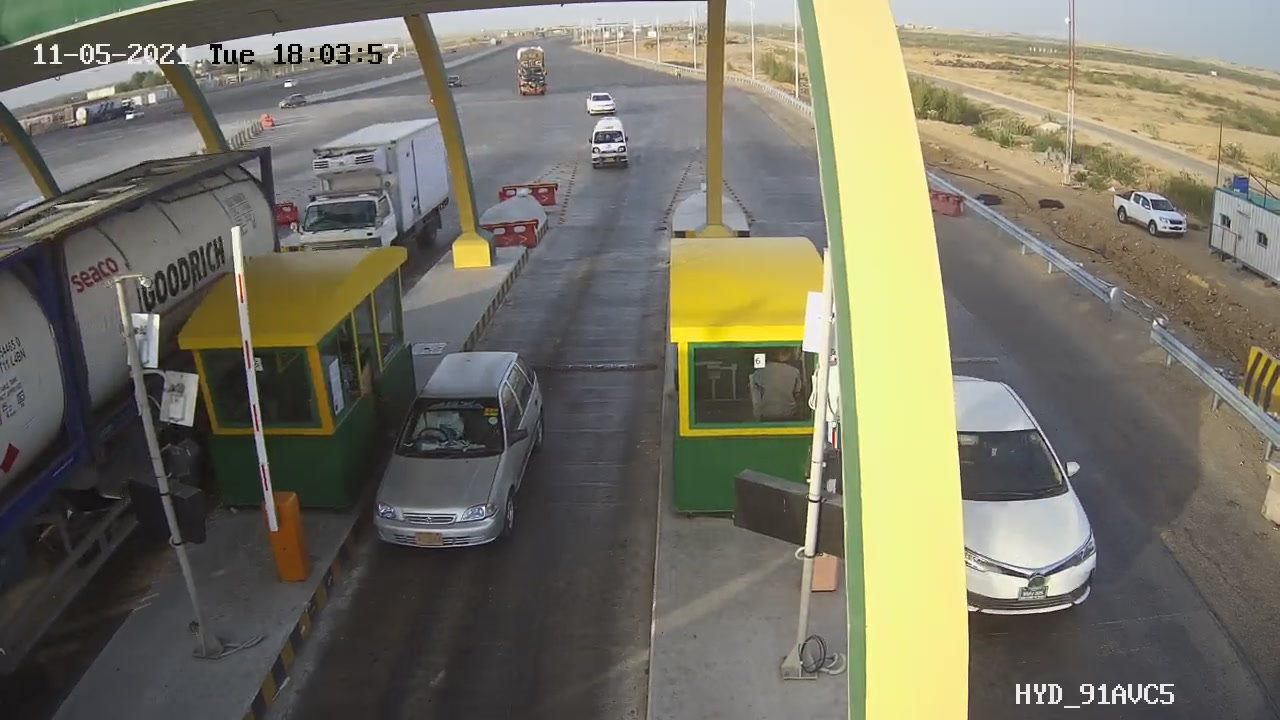F1: (359, 335, 563, 575)
